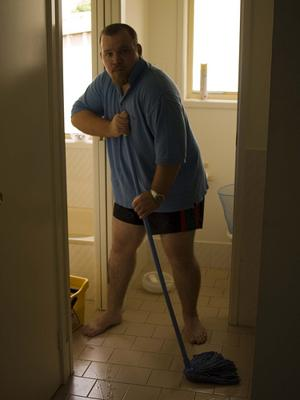person: (70, 23, 210, 348)
